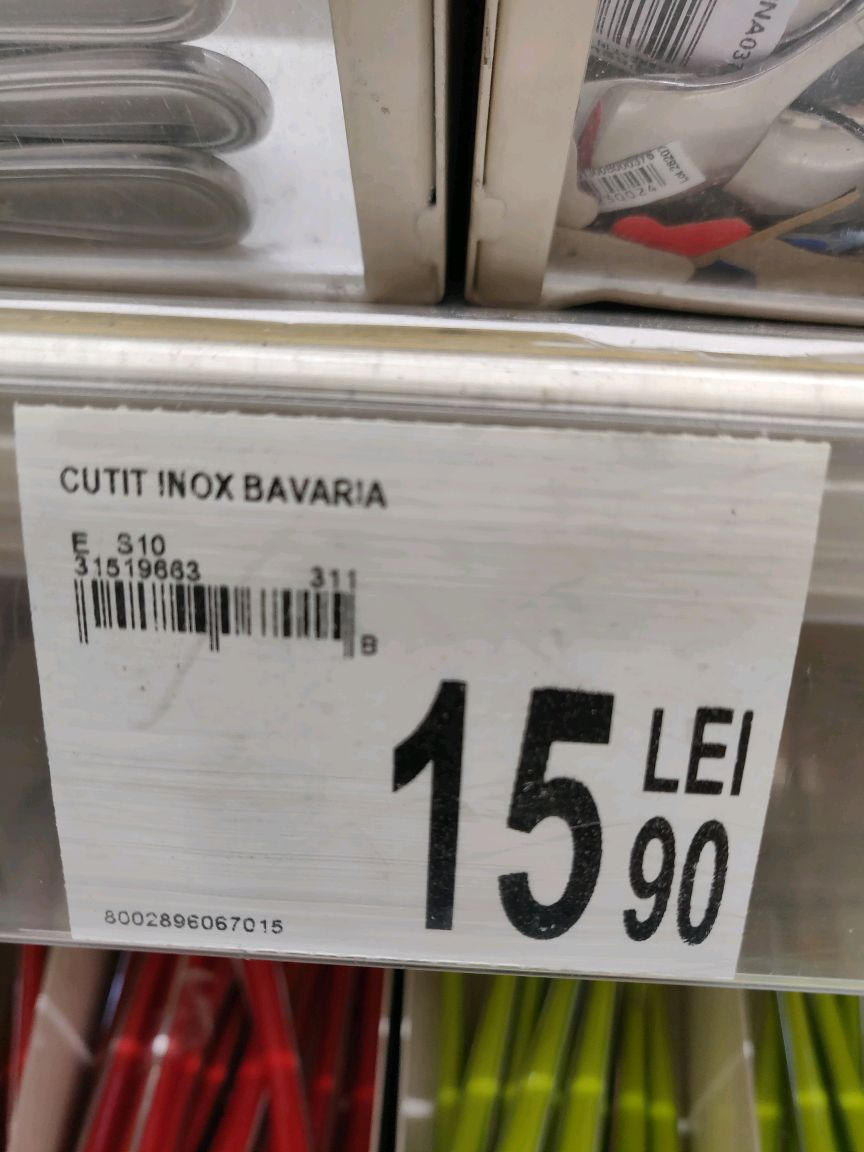price_bani: (608, 811, 744, 983)
price_lei: (375, 654, 620, 961)
price_tag: (8, 396, 838, 1014)
product_id: (90, 891, 295, 948)
product_name: (42, 454, 418, 522)
